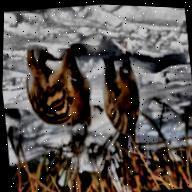boar: (30, 41, 110, 142), (90, 51, 163, 149)
